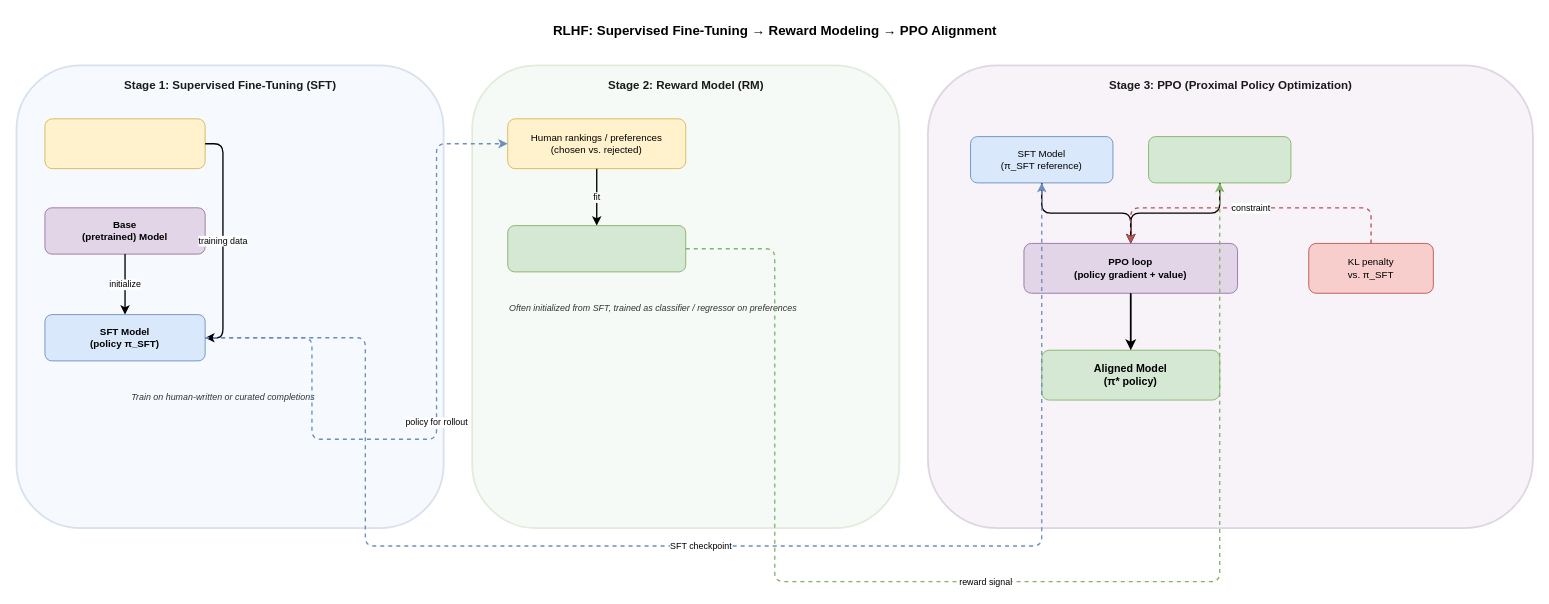
Some shapes in this 1549 by 604 pixel diagram are drawn without their labels. Here are the shapes that lost their labels. From the top down, the centre of each, then its label:
the point at 124,143: Demonstrations (prompt, response pairs)
the point at 1219,159: Reward Model
the point at 596,248: Reward Model r(x, y) (scalar score)
